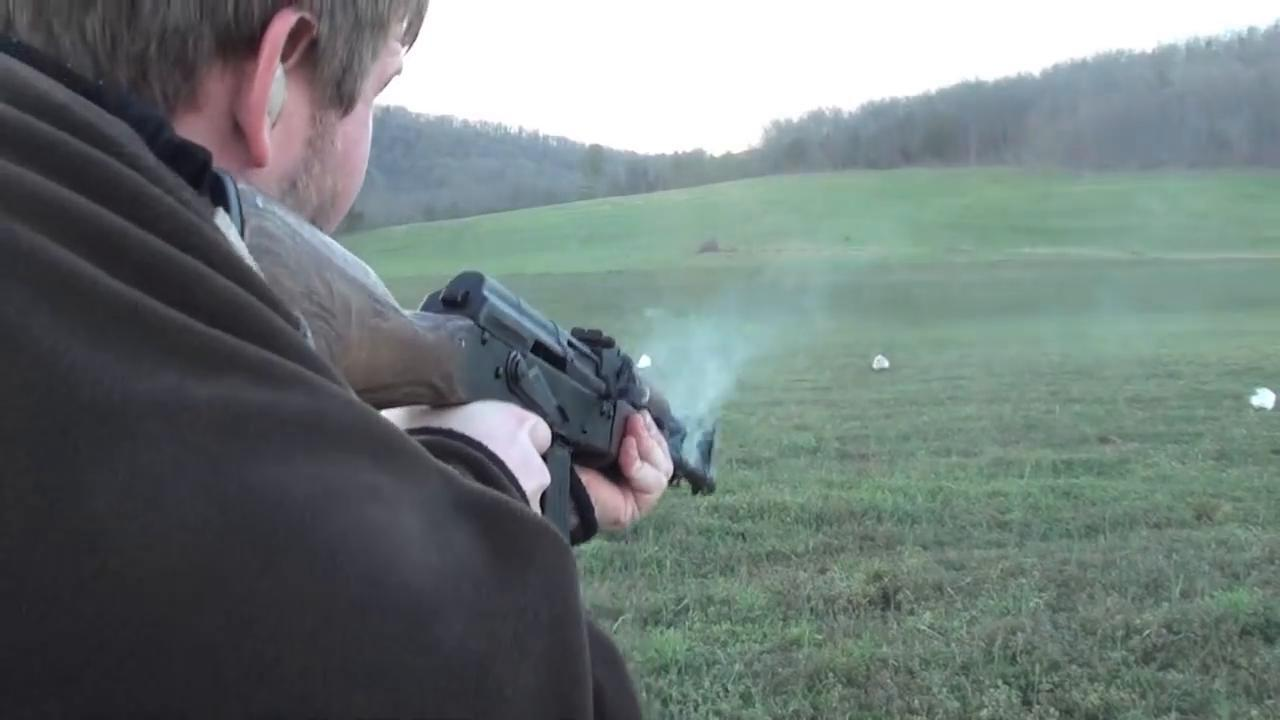AK47 Rifle: (209, 158, 713, 498)
